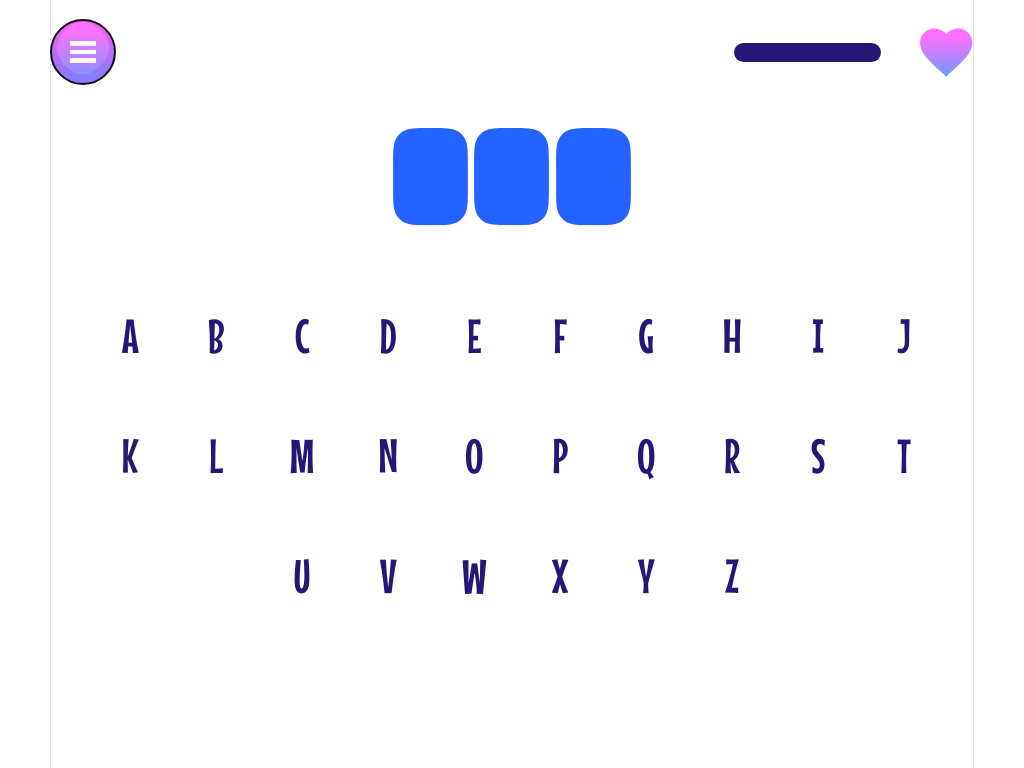
Test: GameScreen › reveals correct letters when guessed
The width and height of the screenshot is (1024, 768).
Click the button with class "allLetters" showing "D": (388, 335) [348,287,428,383]
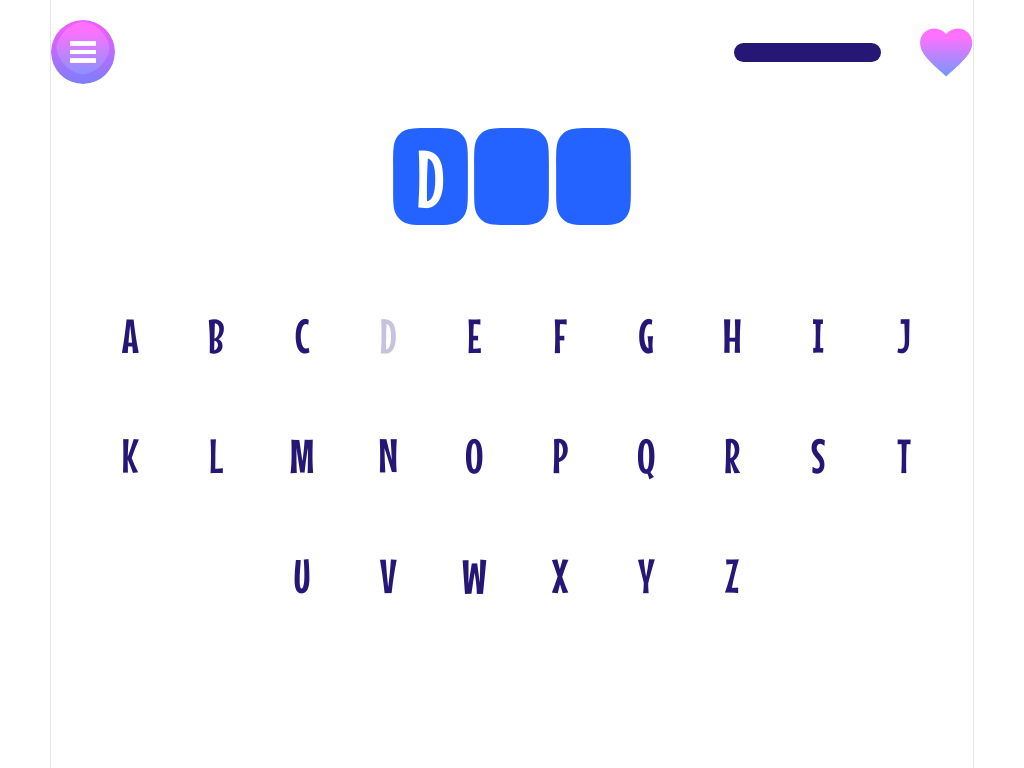
expect the text with class "correctLetters" reads "D": met, box [416,132,445,224]
